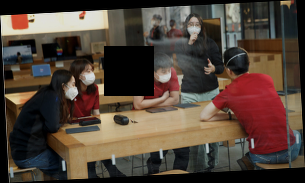with_mask: (65, 80, 79, 101), (154, 67, 172, 83), (81, 67, 96, 85), (187, 20, 202, 35)
